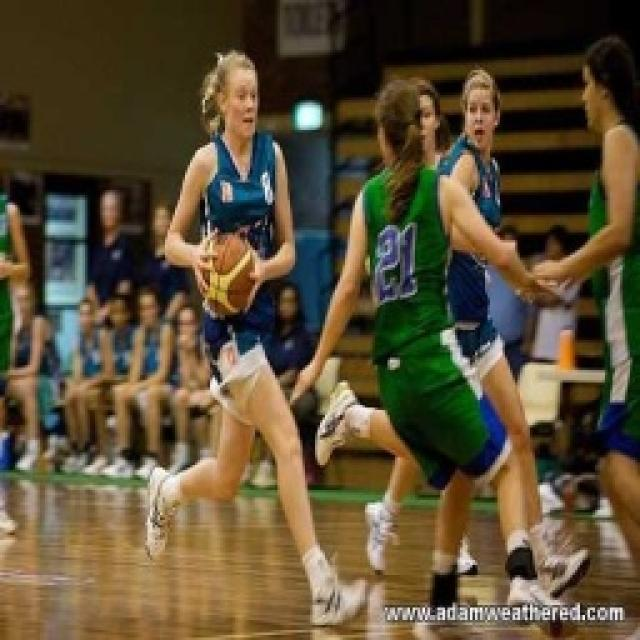basketball: (190, 228, 260, 322)
